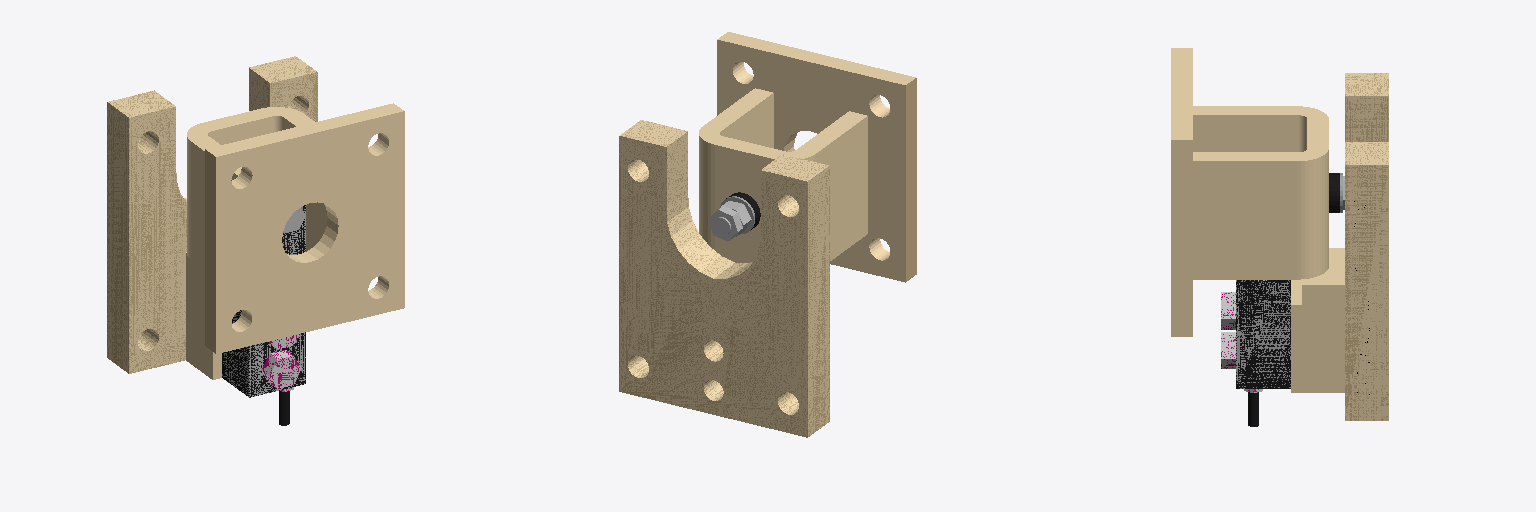
3 renders of one model, left to right at view 1: azimuth 30°, elevation 25°; view 2: azimuth 150°, elevation 25°; view 3: azimuth 270°, elevation 25°, orthographic.
Parts seen in each view (by area): view 1: load cell and weighing assembly; view 2: load cell and weighing assembly; view 3: load cell and weighing assembly.
Boxes of the visible parts, <box> form: load cell and weighing assembly: <box>107,56,404,425</box>; load cell and weighing assembly: <box>619,32,916,437</box>; load cell and weighing assembly: <box>1171,48,1388,426</box>.
Bounding box in the file's own units: 5 × 8.2 × 5.